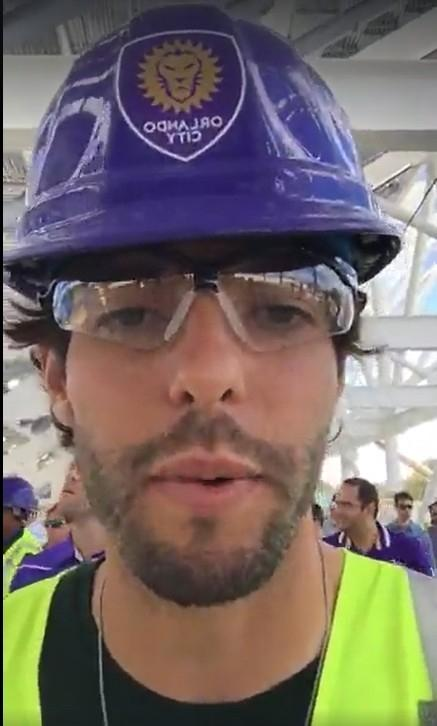helmet: (4, 0, 437, 285)
wear: (2, 557, 437, 726)
